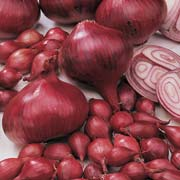onion: (59, 21, 134, 115), (2, 73, 89, 147), (66, 131, 95, 165), (0, 156, 26, 179)
